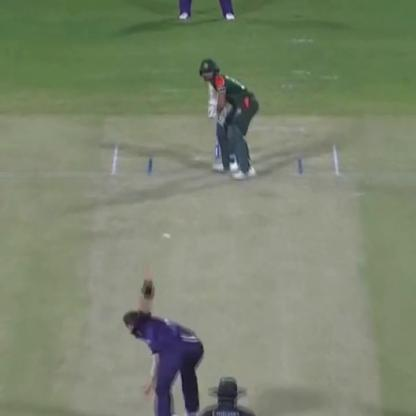ball: (161, 229, 174, 244)
bat: (192, 52, 218, 124)
pitch: (70, 140, 380, 416)
